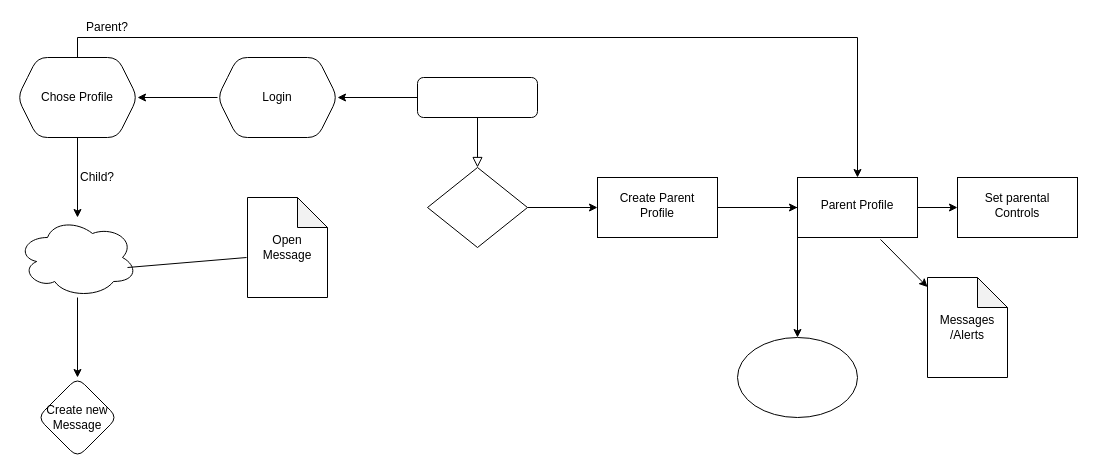
Image size: 1095x475. Some labels were removed from this diagram. The centre of each missing label's shape, as x and y in pixels:
"Create Child profile" belongs at [797,377].
"Inbox" belongs at [77,257].
"Landing Page" belongs at [477,97].
"Sign Up" belongs at [477,207].
